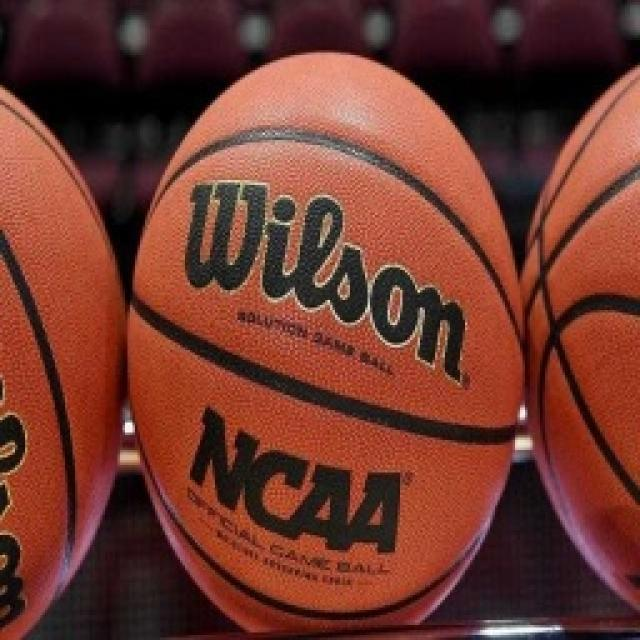rim: (132, 39, 526, 640), (0, 67, 124, 640), (527, 55, 640, 640)
